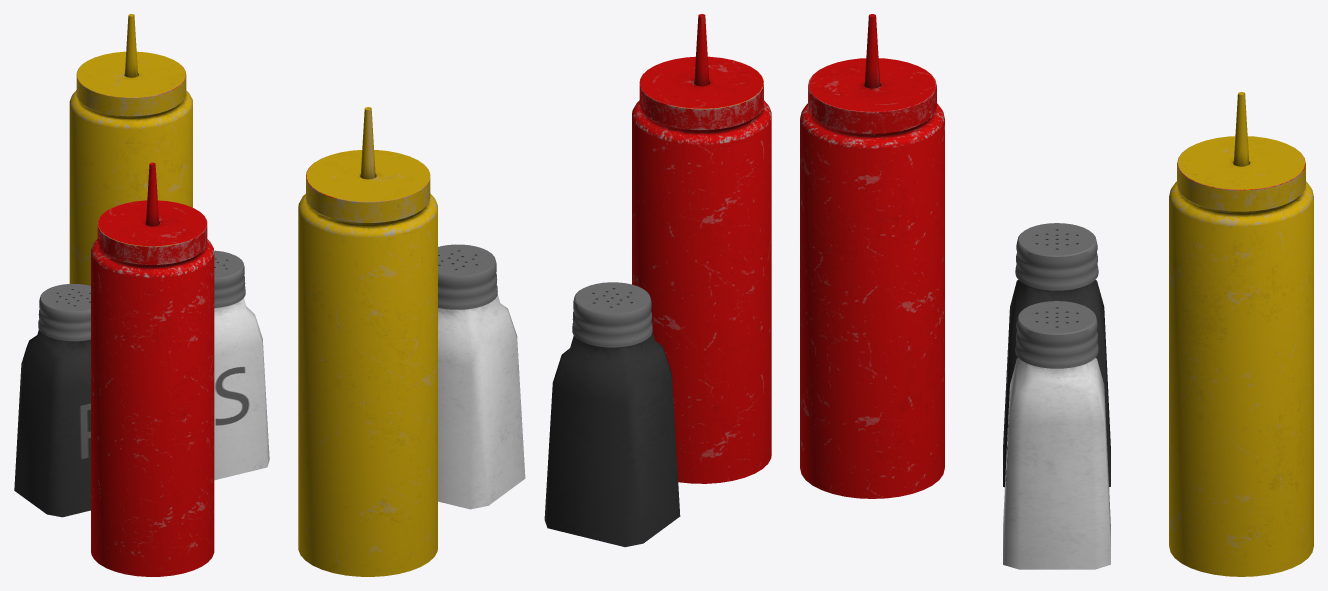
Rendered from salt_pepper_condiments.glb.
The picture shows the model from 3 angles, left to right: view 1: azimuth 30°, elevation 25°; view 2: azimuth 150°, elevation 25°; view 3: azimuth 270°, elevation 25°; orthographic projection. The views are drawn at different scales.
Parts seen in each view (by area): view 1: Ketchup, Mayo, Pepper, Salt, Top, Top.001; view 2: Mayo, Ketchup, Pepper, Salt, Top, Top.001; view 3: Ketchup, Mayo, Salt, Top, Top.001, Pepper.
Part boxes in pixels (x1,y1,x2,y2): Ketchup: (91, 162, 214, 576); Mayo: (69, 14, 192, 285); Pepper: (14, 329, 90, 517); Salt: (214, 298, 269, 480); Top: (38, 284, 90, 341); Top.001: (214, 250, 245, 307); Mayo: (298, 107, 437, 576); Ketchup: (632, 14, 771, 483); Pepper: (544, 332, 680, 547); Salt: (438, 294, 525, 509); Top: (572, 282, 652, 347); Top.001: (438, 244, 497, 309); Ketchup: (800, 14, 944, 498); Mayo: (1169, 92, 1313, 576); Salt: (1003, 358, 1110, 569); Top: (1015, 223, 1098, 290); Top.001: (1015, 301, 1098, 368); Pepper: (1003, 280, 1110, 487).
Bounding box in the file's own units: 178 × 271 × 278.
1 material, 1 textured.
